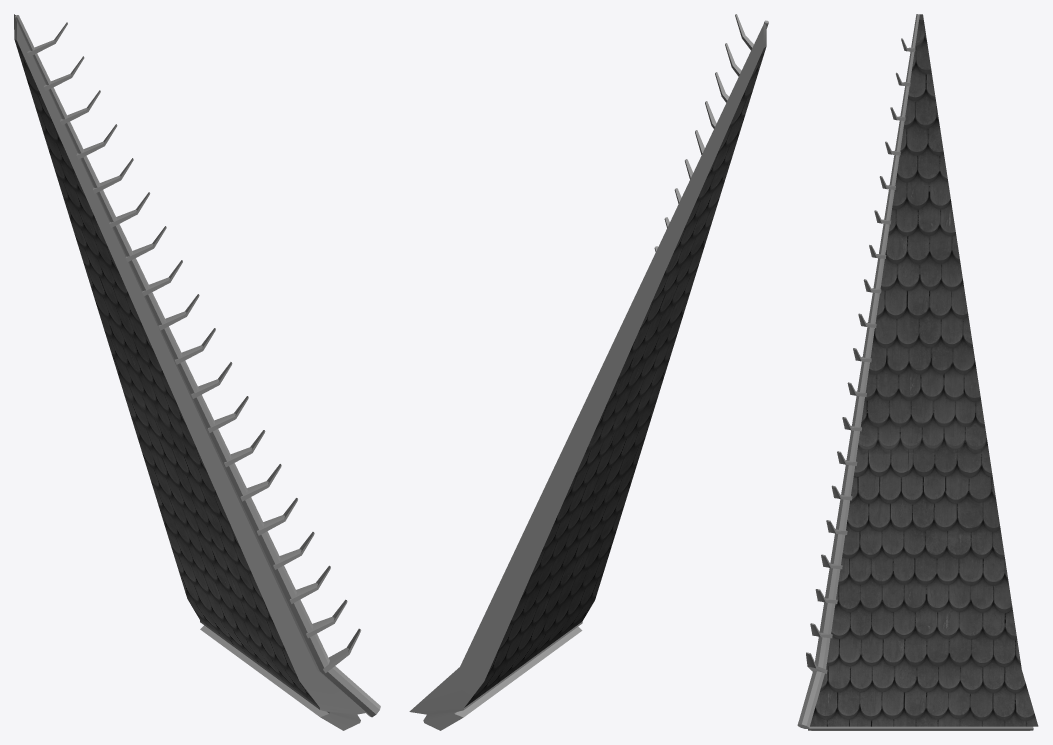
File: SM_OctagonRoof_A_002.FBX
3 renders of one model, left to right at view 1: azimuth 30°, elevation 25°; view 2: azimuth 150°, elevation 25°; view 3: azimuth 270°, elevation 25°, orthographic. The views are drawn at different scales.
Parts seen in each view (by area): view 1: SM_OctagonRoof_A_002; view 2: SM_OctagonRoof_A_002; view 3: SM_OctagonRoof_A_002.
Part boxes in pixels (x1=…): SM_OctagonRoof_A_002: x1=14, y1=14, x2=380, y2=730; SM_OctagonRoof_A_002: x1=409, y1=14, x2=768, y2=730; SM_OctagonRoof_A_002: x1=797, y1=14, x2=1038, y2=730.
Bounding box in the file's own units: 651 × 1540 × 551.
Materials: 2 (1 with a texture image).
